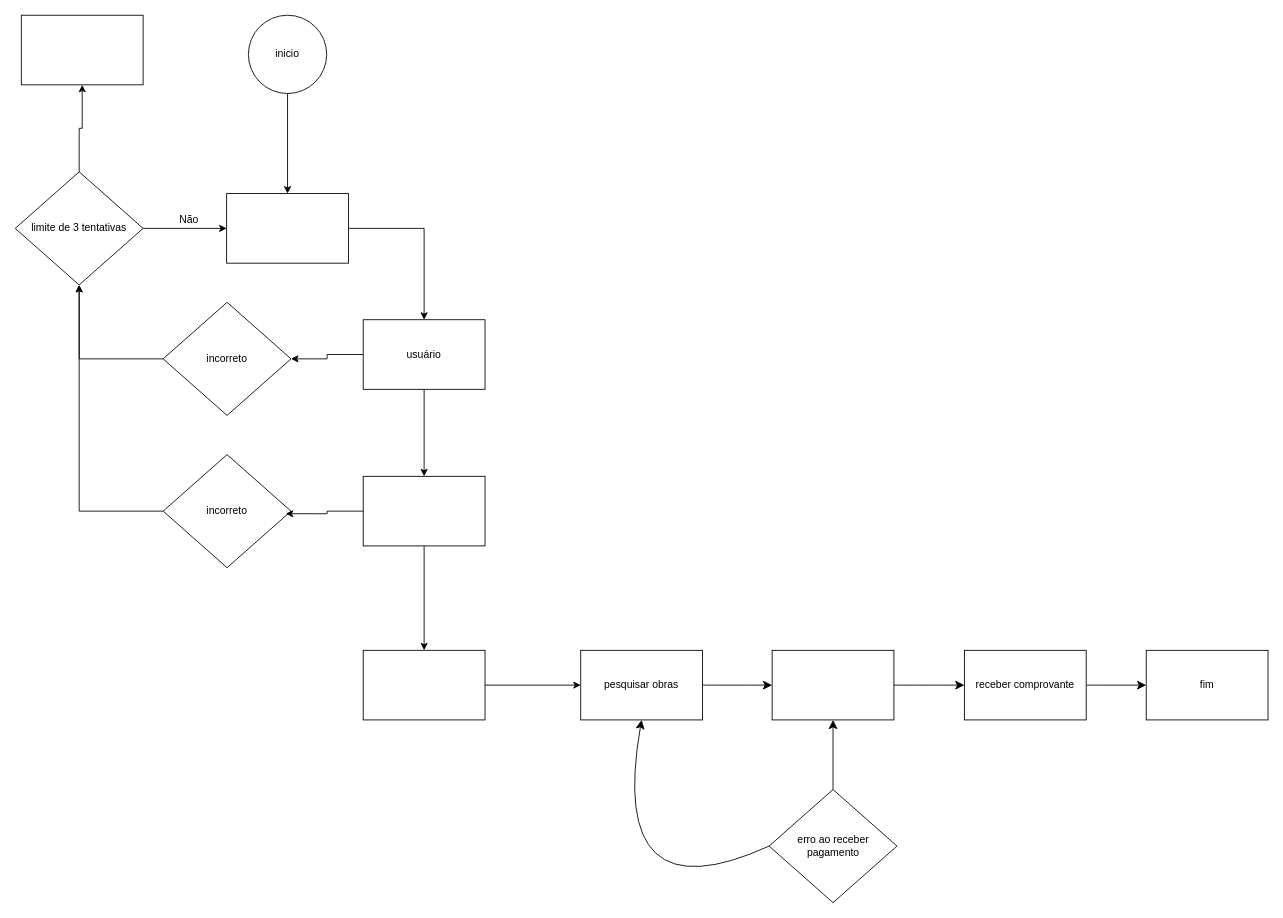
Image size: 1283x918. Some labels were removed from this diagram. Each missing label, with the box of its shape:
acessar: (362, 649, 485, 720)
comprar: (771, 649, 894, 720)
espere por 15 minutos pra tentar de novo: (20, 14, 143, 85)
Login/cadastro: (226, 193, 348, 263)
senha: (362, 475, 485, 546)
